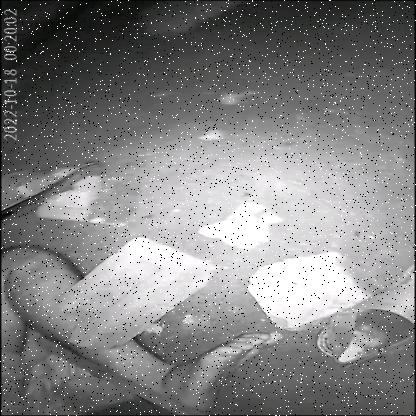leg: (0, 239, 296, 416)
